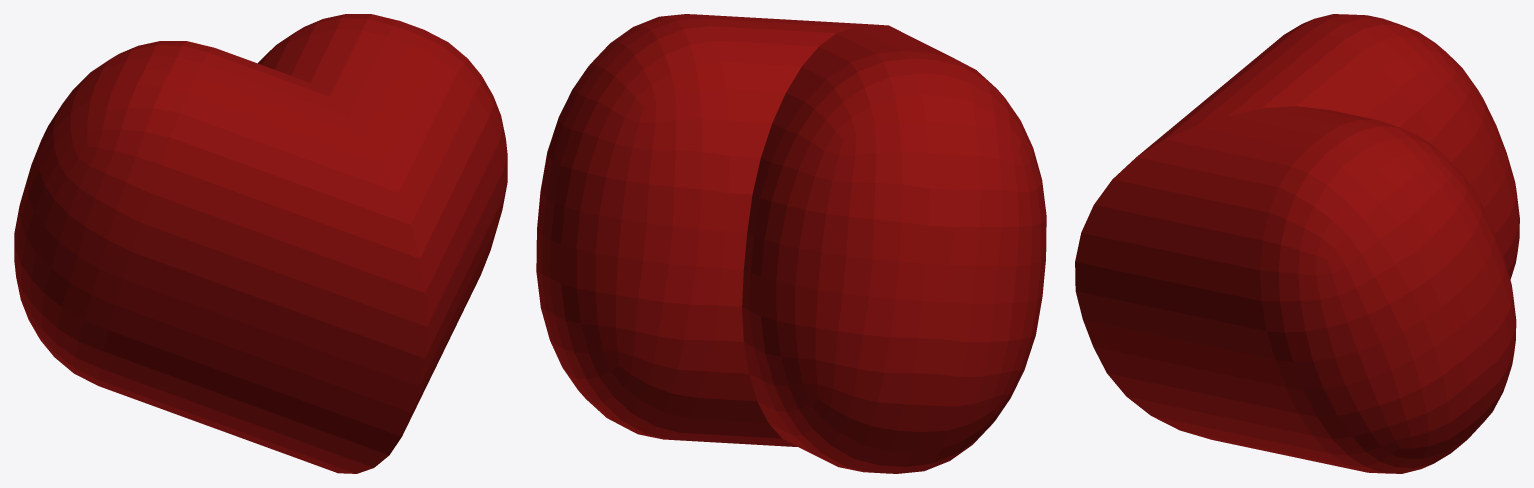
File: animatieheart.fbx
3 views of the same model, side by side, from view 1: azimuth 30°, elevation 25°; view 2: azimuth 150°, elevation 25°; view 3: azimuth 270°, elevation 25° (orthographic). The views are drawn at different scales.
Visible parts, largest first — view 1: Cube; view 2: Cube; view 3: Cube.
Part boxes in pixels (x1=…): Cube: x1=14, y1=14, x2=507, y2=473; Cube: x1=536, y1=14, x2=1046, y2=473; Cube: x1=1075, y1=14, x2=1519, y2=473.
Size of the model in its own units: 445 by 382 by 406.
